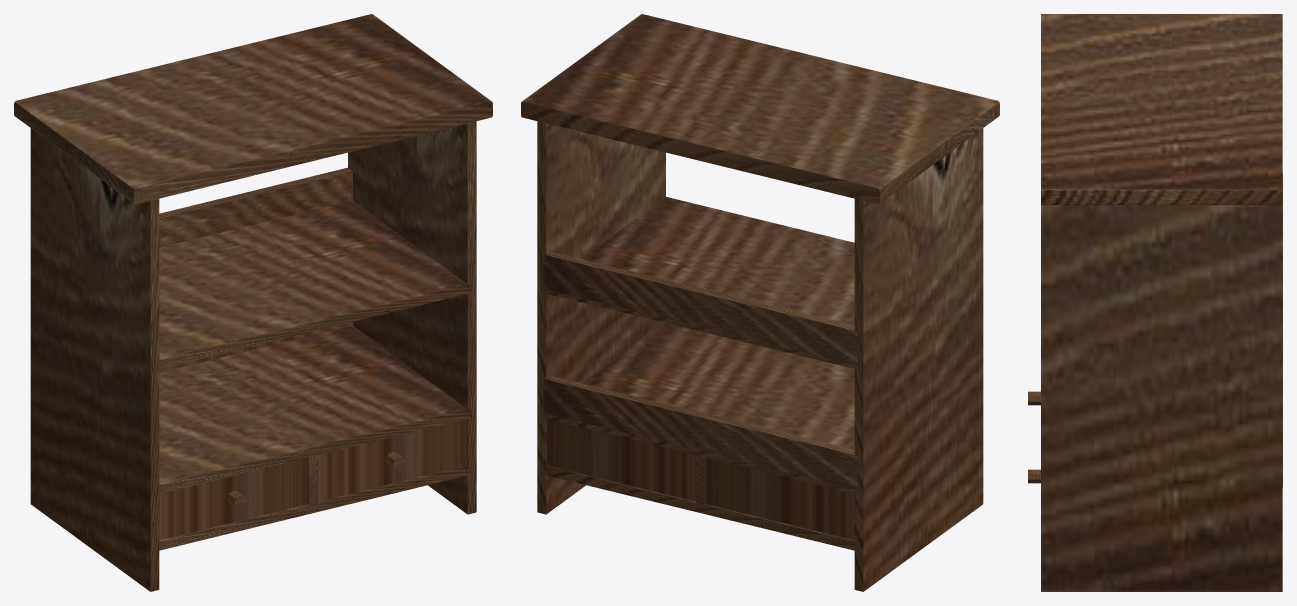
File: shelf.fbx
The picture shows the model from 3 angles, left to right: view 1: azimuth 30°, elevation 25°; view 2: azimuth 150°, elevation 25°; view 3: azimuth 270°, elevation 25°; orthographic projection.
Parts seen in each view (by area): view 1: pasted__pCylinder3; view 2: pasted__pCylinder3; view 3: pasted__pCylinder3.
Part boxes in pixels (box(x1,y1,x2,y2)): pasted__pCylinder3: box(14, 14, 492, 591); pasted__pCylinder3: box(521, 14, 999, 591); pasted__pCylinder3: box(1028, 14, 1282, 591).
Bounding box in the file's own units: 284 × 308 × 173.
